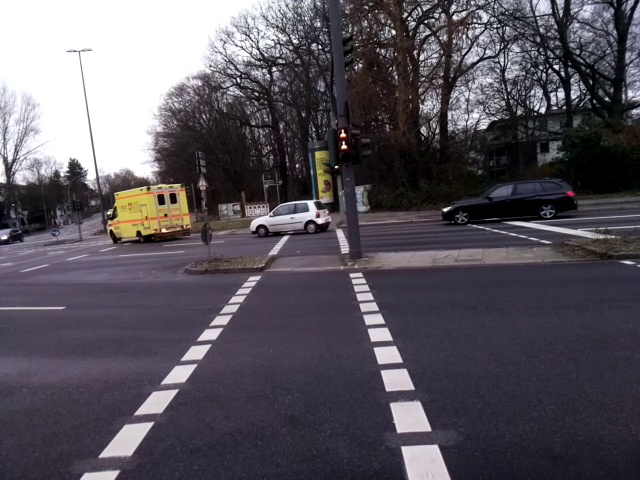car: (440, 177, 581, 223), (247, 196, 334, 237)
